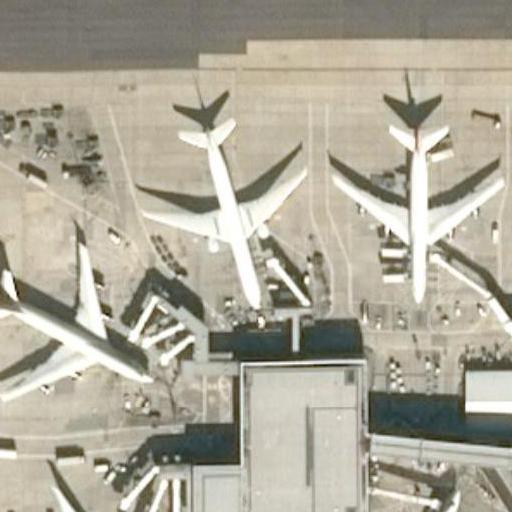Aircraft: (130, 109, 309, 314), (324, 108, 505, 307), (0, 235, 157, 397), (0, 469, 181, 512), (313, 483, 484, 512)
